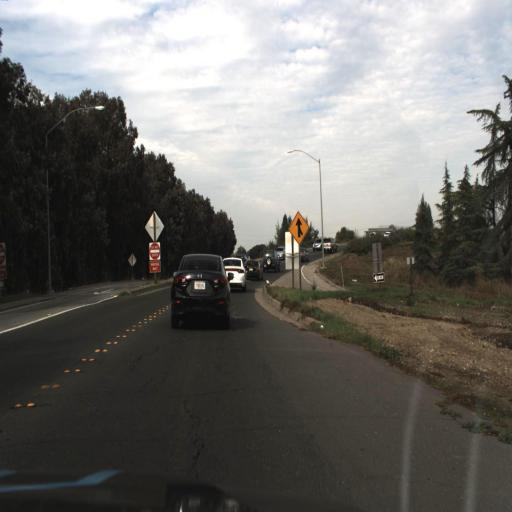car: (169, 251, 232, 336), (222, 251, 249, 294), (224, 254, 248, 290), (243, 254, 264, 285), (262, 246, 280, 276), (322, 233, 339, 257), (298, 242, 311, 266)
